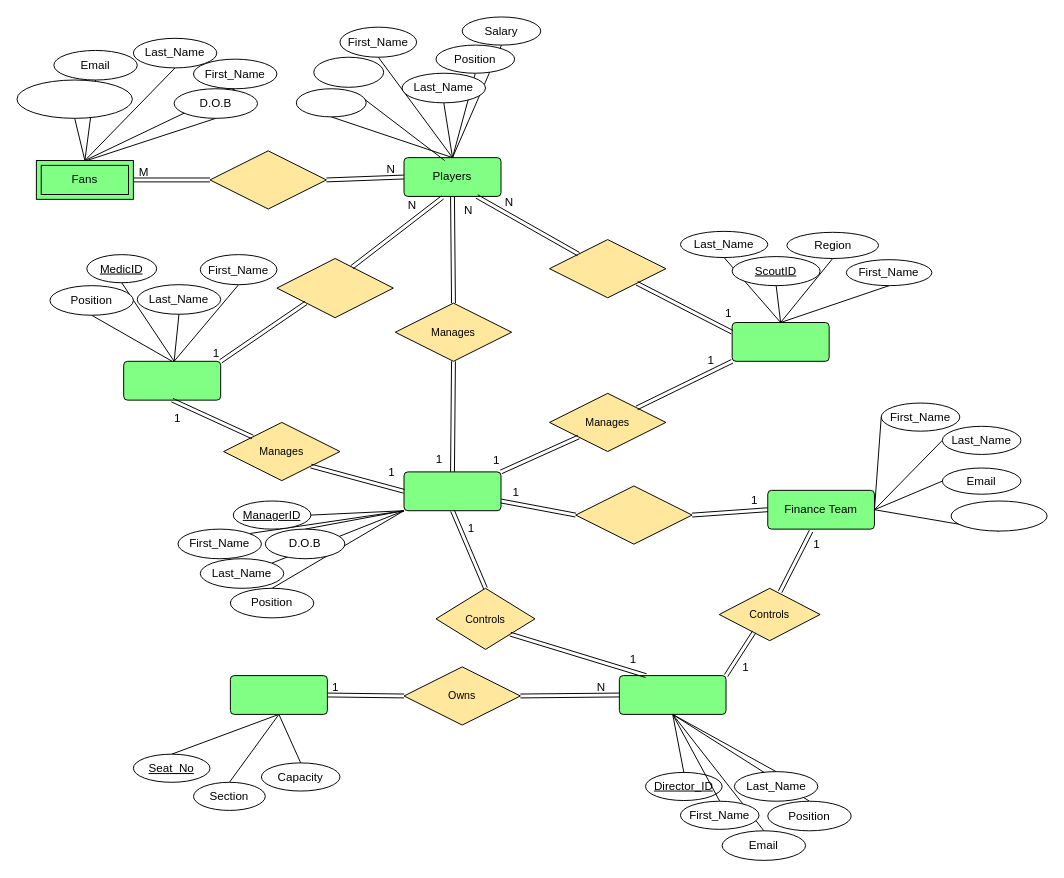
Image size: 1064x878. Some labels were removed from this diagram. Here are the shapes that lost their labels. From the top down, the centre of each, then its label:
At pixel 348 71: "Age".
At pixel 74 98: "Membership_ID".
At pixel 330 102: "PlayerID".
At pixel 267 179: "Support".
At pixel 334 288: "Aid".
At pixel 607 268: "Scout".
At pixel 780 341: "Scout Team".
At pixel 172 380: "Medical Team".
At pixel 452 491: "Management Team".
At pixel 633 514: "Supply".
At pixel 998 515: "Finance_ID".
At pixel 278 694: "Stadium".
At pixel 672 694: "Board of Directors".
